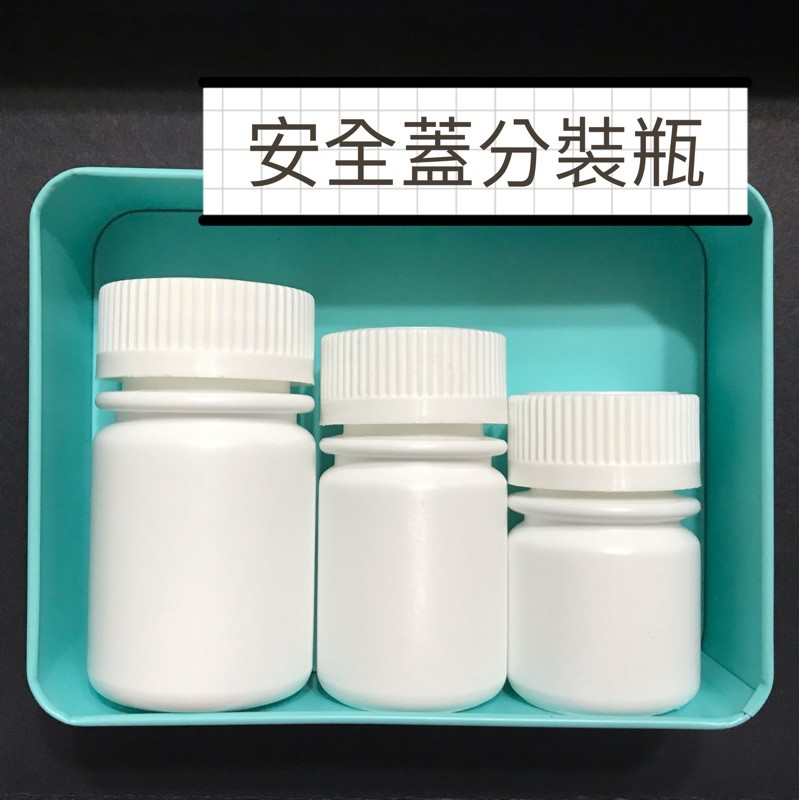medicinejar: (82, 273, 318, 713), (316, 332, 520, 723), (495, 380, 716, 717)
